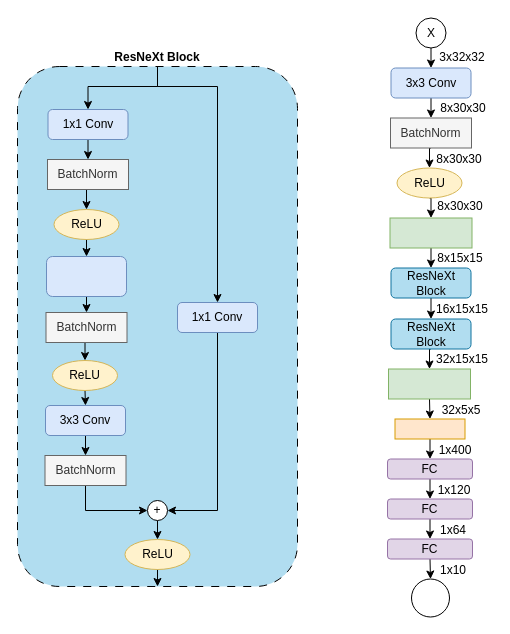
Image size: 510x634. Some labels were removed from this diagram. Here are the shapes that lost their labels. From the top down, the box of each, then its label:
(389, 217, 472, 248): 2x2 MaxPool
(46, 256, 126, 296): 3x3 Conv 4 Groups
(388, 368, 470, 399): 5x5 AvgPool
(394, 418, 465, 439): Reshape
(410, 578, 450, 617): Out
